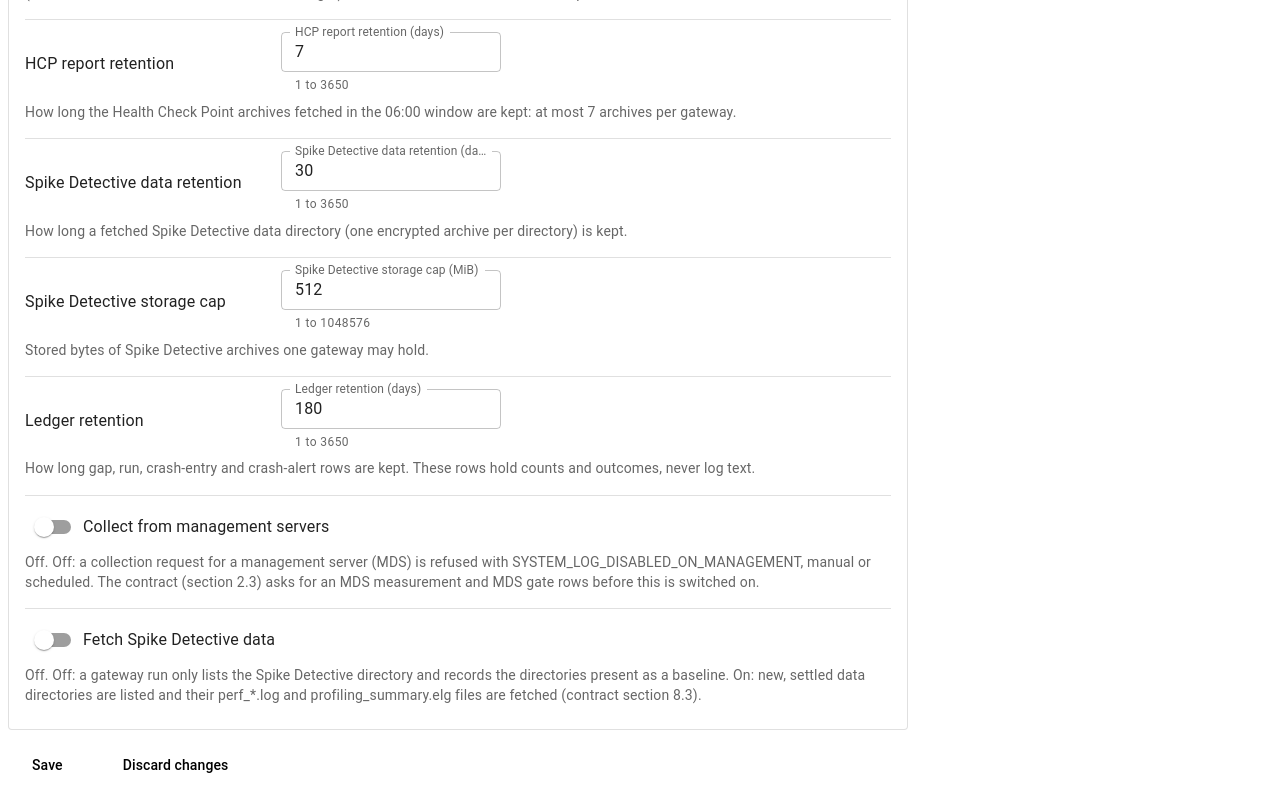
SystemLogSettingsPanel › asks a confirm step that says what starts happening before spike data is switched on, then saves only that key
(page scrolled)
Click the checkbox labelled "Fetch Spike Detective data": (155,640) [34, 630, 275, 650]
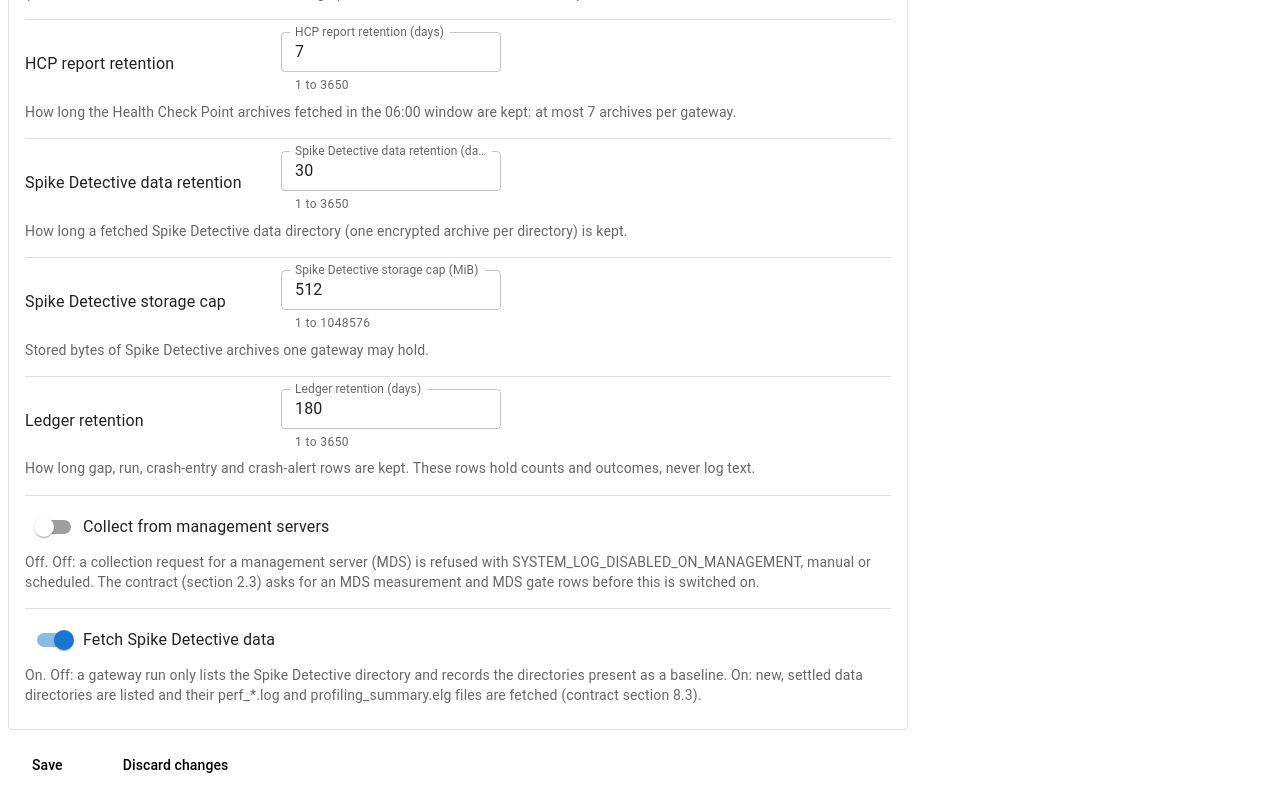
Click the button "Save": (47,766) [8, 746, 87, 786]
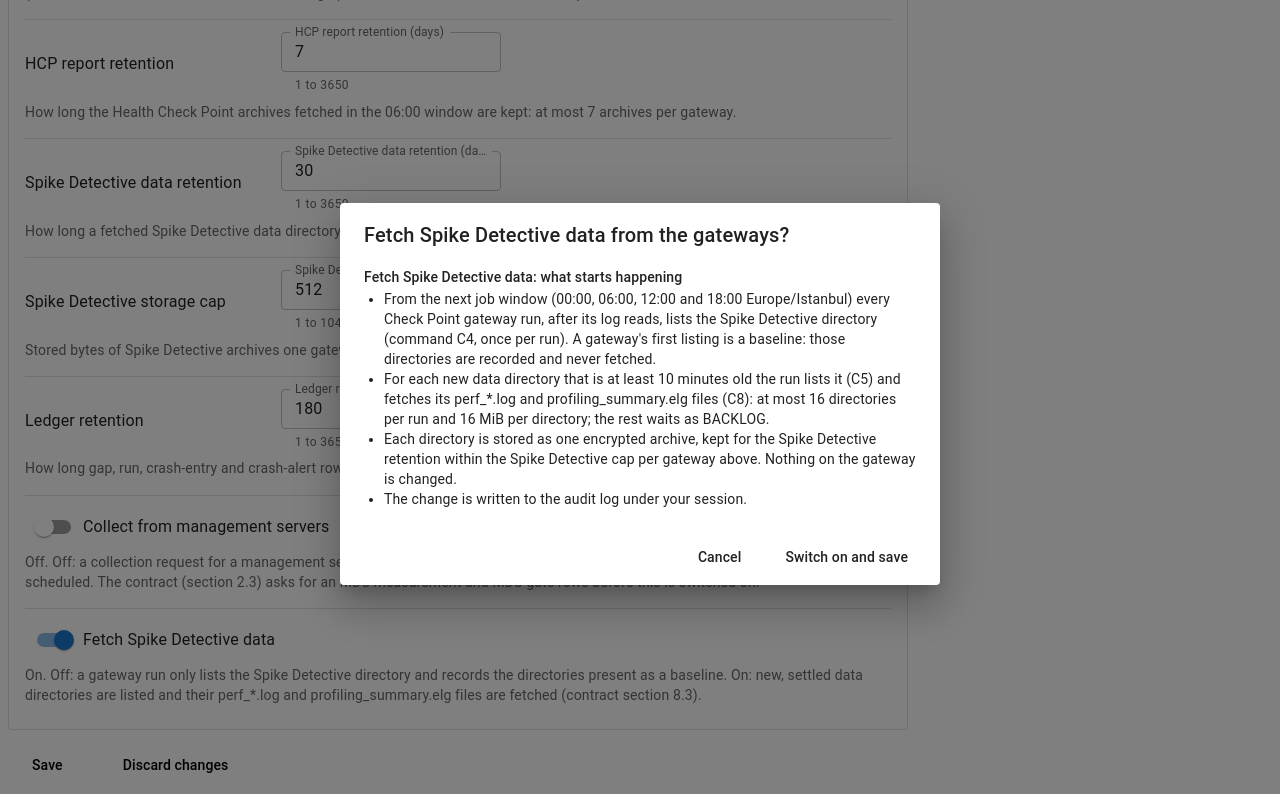
Expected: the dialog "Fetch Spike Detective data from the gateways?" shows "next job window (00:00, 06:00, 12:00 and 18:00 Europe/Istanbul)", [384, 291, 890, 367]
Expected: the dialog "Fetch Spike Detective data from the gateways?" shows "command C4", [384, 291, 890, 367]
Expected: the dialog "Fetch Spike Detective data from the gateways?" shows "lists it (C5)", [384, 371, 901, 427]
Click the button "Switch on and save": (847,557) [761, 537, 932, 577]
(page scrolled)
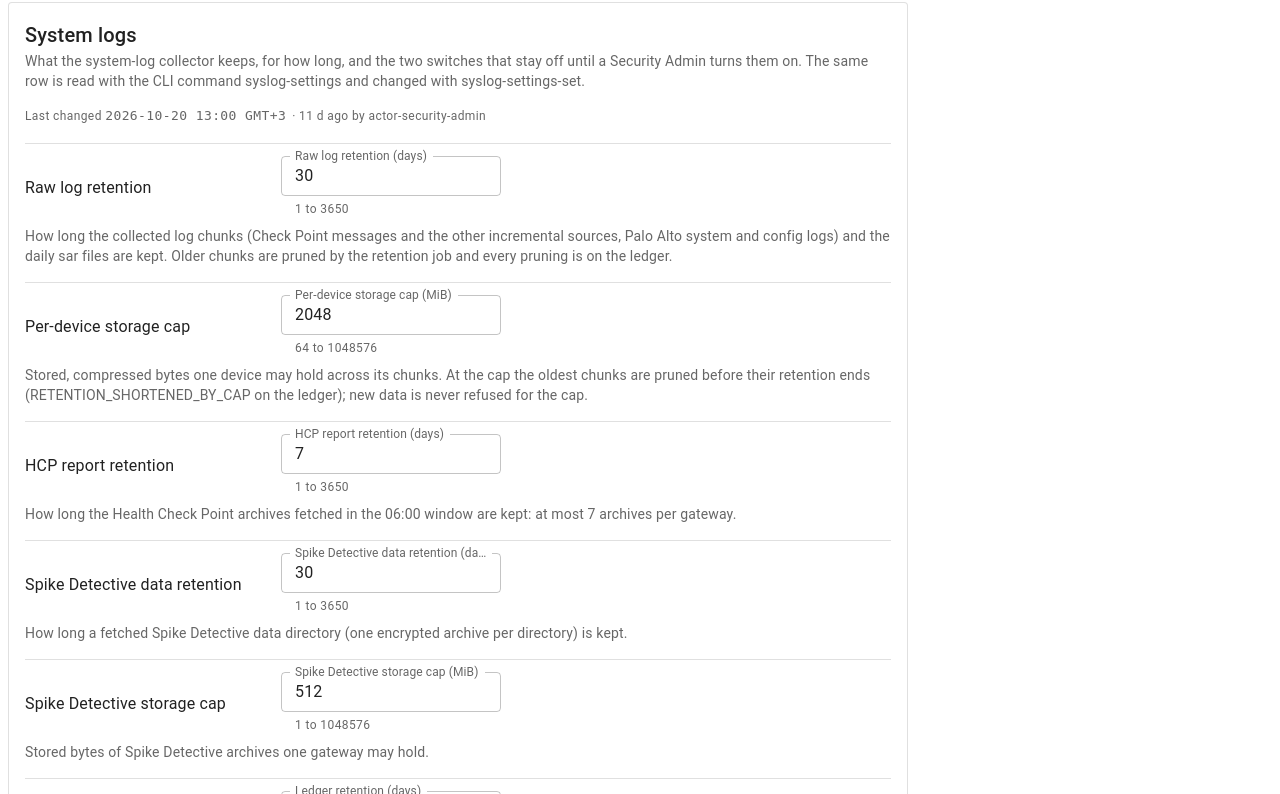
Expected: the element with test id "syslog-settings-last-changed" shows "by actor-security-admin", [25, 108, 486, 123]
Expected: the dialog is gone
